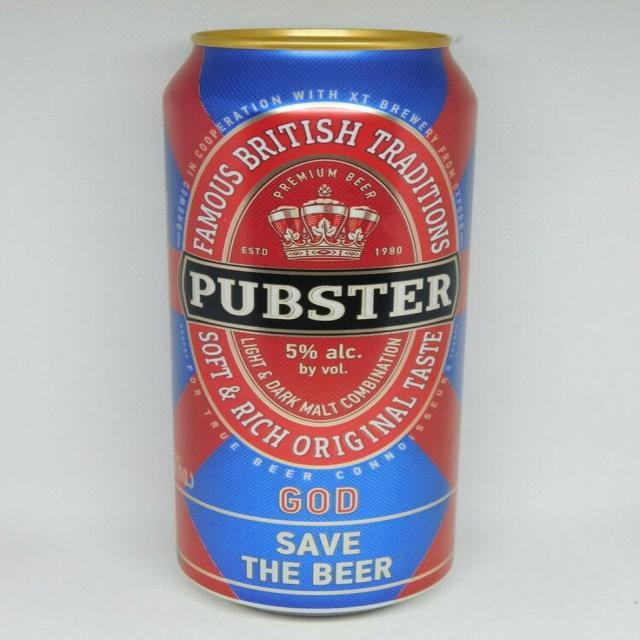can: (148, 15, 509, 622)
